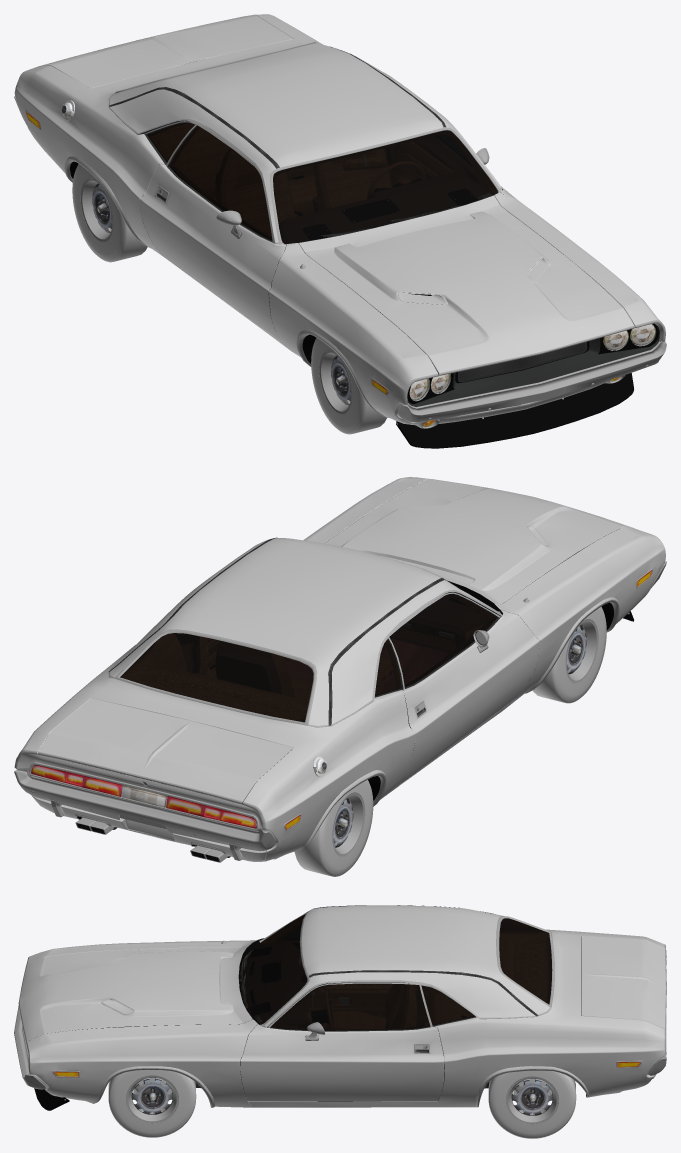
The picture shows the model from 3 angles, top to bottom: view 1: azimuth 30°, elevation 25°; view 2: azimuth 150°, elevation 25°; view 3: azimuth 270°, elevation 25°; orthographic projection. The views are drawn at different scales.
Parts seen in each view (by area): view 1: U_CC04_carPaint, U_CC04_softTop, U_CC04_windows, U_CC04_carDetails, U_CC04_chrome, U_CC03_tire_RR, U_CC03_tire_FR, U_CC04_frontLight, U_CC04_wheel_chrome_rim_RR, U_CC04_wheel_chrome_rim_FR, U_CC04_softTopSeam, U_CC04_wheel_RR (+1 smaller); view 2: U_CC04_carPaint, U_CC04_softTop, U_CC04_windows, U_CC04_chrome, U_CC03_tire_RR, U_CC04_brakeLight, U_CC03_tire_FR, U_CC04_carDetails, U_CC04_softTopSeam, U_CC04_wheel_chrome_rim_RR, U_CC04_wheel_chrome_rim_FR, U_CC04_wheel_RR (+1 smaller); view 3: U_CC04_carPaint, U_CC04_softTop, U_CC04_windows, U_CC04_chrome, U_CC03_tire_RL, U_CC03_tire_FL, U_CC04_carDetails, U_CC04_wheel_RL, U_CC04_wheel_Fl, U_CC04_wheel_chrome_rim_FL, U_CC04_wheel_chrome_rim_RL, U_CC04_softTopSeam.
Boxes of the visible parts, x1,y1,x2,y2 form: U_CC04_carPaint: (14,14,664,428); U_CC04_softTop: (110,43,502,244); U_CC04_windows: (147,122,497,244); U_CC04_carDetails: (61,60,659,448); U_CC04_chrome: (14,42,666,428); U_CC03_tire_RR: (72,164,147,262); U_CC03_tire_FR: (311,337,386,434); U_CC04_frontLight: (372,324,655,427); U_CC04_wheel_chrome_rim_RR: (80,177,113,242); U_CC04_wheel_chrome_rim_FR: (319,350,352,414); U_CC04_softTopSeam: (109,46,445,168); U_CC04_wheel_RR: (92,183,112,232); U_CC04_carPaint: (15,477,665,861); U_CC04_softTop: (108,538,499,725); U_CC04_windows: (120,586,496,722); U_CC04_chrome: (14,561,666,862); U_CC03_tire_RR: (294,780,373,876); U_CC04_brakeLight: (31,765,300,829); U_CC03_tire_FR: (533,606,606,703); U_CC04_carDetails: (72,481,633,861); U_CC04_softTopSeam: (109,537,445,725); U_CC04_wheel_chrome_rim_RR: (332,792,365,856); U_CC04_wheel_chrome_rim_FR: (565,619,598,683); U_CC04_wheel_RR: (333,798,353,847); U_CC04_carPaint: (19,929,665,1107); U_CC04_softTop: (263,905,551,1027); U_CC04_windows: (240,914,552,1030); U_CC04_chrome: (14,911,666,1107); U_CC03_tire_RL: (488,1070,576,1138); U_CC03_tire_FL: (108,1070,196,1137); U_CC04_carDetails: (29,936,586,1110); U_CC04_wheel_RL: (511,1078,552,1115); U_CC04_wheel_Fl: (131,1077,172,1114); U_CC04_wheel_chrome_rim_FL: (125,1075,178,1123); U_CC04_wheel_chrome_rim_RL: (505,1076,558,1124); U_CC04_softTopSeam: (309,905,538,1016).
Size of the model in its own units: 39.85 by 26.87 by 101.
